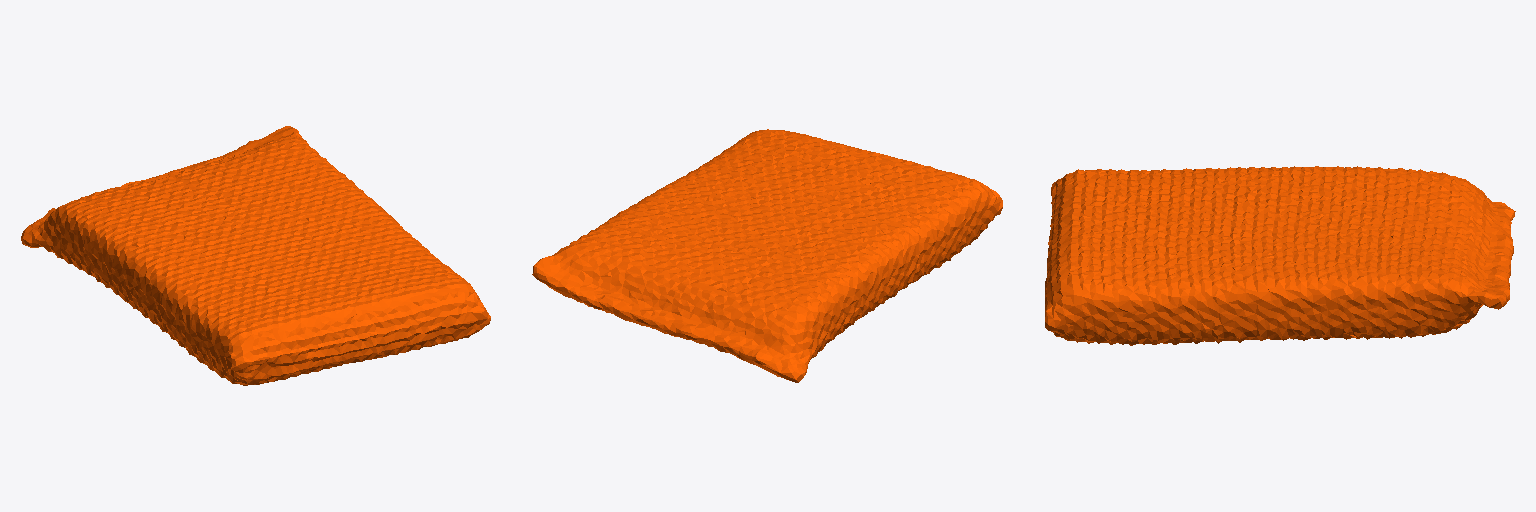
The robot description file, URDF, robot "026_sponge":
<?xml version="1.0" ?>
<robot name="026_sponge">
   <material name="obj_color">
      <color rgba="1.0 0.423529411765 0.0392156862745 1.0"/>
   </material>
   <link name="top">
      <inertial>
         <origin rpy="9.878530755409556e-05 0.0002003247316030813 0.0002898976575980756" xyz="3.042719991082463e-05 -0.0005367537513650065 0.0005140250842616392"/>
         <mass value="0.2268554574561329"/>
         <inertia ixx="0.0002003346782661102" ixy="-1.061594211657496e-06" ixz="-1.39335595503676e-06" iyy="9.881638337053405e-05" iyz="-1.939104739224408e-06" izz="0.0002898566351186082"/>
      </inertial>
      <visual>
         <origin rpy="0 0 0" xyz="0 0 0"/>
         <geometry>
            <mesh filename="top_watertight_tiny.stl" scale="1 1 1"/>
         </geometry>
         <material name="obj_color"/>
      </visual>
      <collision>
         <origin rpy="0 0 0" xyz="0 0 0"/>
         <geometry>
            <mesh filename="top_watertight_tiny.obj" scale="1 1 1"/>
         </geometry>
      </collision>
   </link>
   <link name="bottom">
      <inertial>
         <origin rpy="1.633333333199431e-08 1.633333333199431e-08 1.633333333362855e-08" xyz="0.3464080000000008 0.3464080000000008 0.3464080000000008"/>
         <mass value="0.0009800000000000017"/>
         <inertia ixx="1.633333333253906e-08" ixy="5.447480642029219e-19" ixz="5.447480642029219e-19" iyy="1.633333333253906e-08" iyz="5.447480642029219e-19" izz="1.633333333253906e-08"/>
      </inertial>
      <visual>
         <origin rpy="0 0 0" xyz="0 0 0"/>
         <geometry>
            <mesh filename="bottom_watertight_tiny.stl" scale="1 1 1"/>
         </geometry>
         <material name="obj_color"/>
      </visual>
   </link>
   <joint name="rotation" type="revolute">
      <origin xyz="0 0 0"/>
      <axis xyz="0 0 -1"/>
      <parent link="bottom"/>
      <child link="top"/>
      <dynamics damping="1.0" friction="1.0"/>
      <limit effort="0.1" velocity="0.1" lower="0" upper="0.001"/>
   </joint>
</robot>

--- What the picture shows (computed from the rendered views, not written in the file) ---
Views: 3 orthographic renders of the robot side by side, from view 1: azimuth 30°, elevation 25°; view 2: azimuth 150°, elevation 25°; view 3: azimuth 270°, elevation 25°.
Robot: 026_sponge — 2 links, 1 joints (1 revolute); root link bottom; default pose: every joint at zero.
Visible links, largest first — view 1: top; view 2: top; view 3: top.
Boxes of the visible links, x1=… form: top: x1=21, y1=126, x2=490, y2=385; top: x1=532, y1=129, x2=1002, y2=382; top: x1=1045, y1=166, x2=1515, y2=345.
Size in the robot's own frame: 0.0791 by 0.1121 by 0.019 metres.
1 mesh visuals loaded from 2 distinct referenced files (1 binary STL); not drawn: 1 (reference not matched to a file when rendering).
